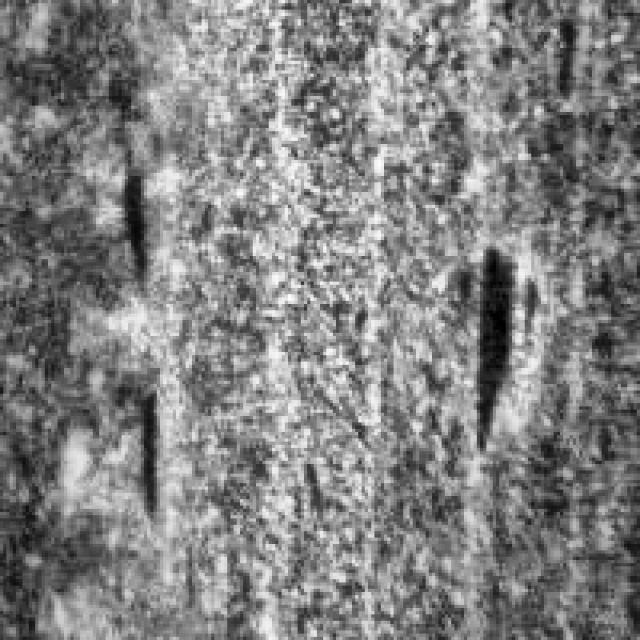Patches: (448, 224, 525, 464), (92, 92, 164, 310), (115, 368, 176, 531)
